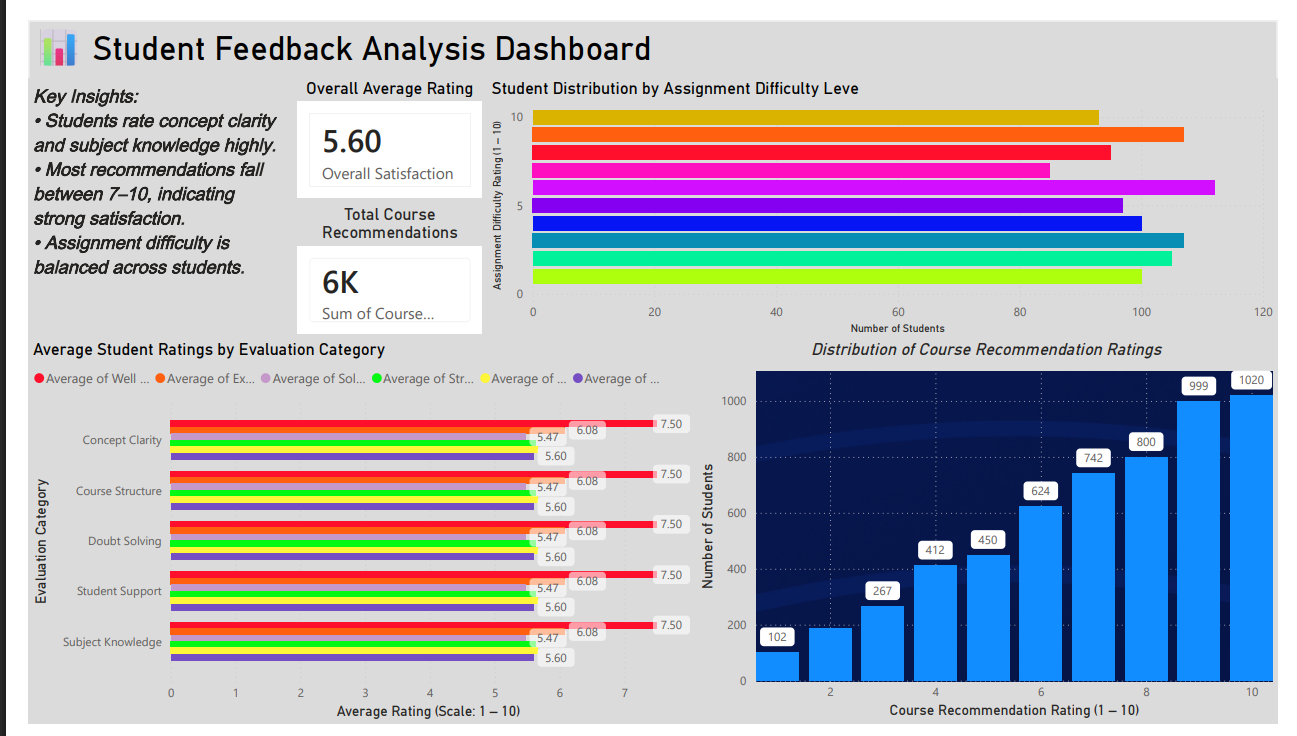

What the dashboard file says about the page in this screenshot:
{"tool":"powerbi","page":{"name":"Page 1","canvas":[1280,720],"ordinal":0},"visuals":[{"type":"clusteredBarChart","title":"Average Student Ratings by Evaluation Category","fields":{"Y":["Avg(student_feedback.Well versed with the subject)","Avg(student_feedback.Explains concepts in an understandable way)","Avg(student_feedback.Solves doubts willingly)","Avg(student_feedback.Structuring of the course)","Avg(student_feedback.Provides support for students going above and beyond)","Avg(student_feedback.Course recommendation based on relevance)"],"Category":["Rating_Categories.Category"]},"box":[0,327,683,393],"z":0},{"type":"cardVisual","title":"Total Course Recommendations","fields":{"Data":["Sum(student_feedback.Course recommendation based on relevance)"]},"box":[271.2,187.8,199,139.3],"z":1000},{"type":"clusteredColumnChart","title":"Distribution of Course Recommendation Ratings","fields":{"Y":["Sum(student_feedback.Course recommendation based on relevance)"],"Category":["student_feedback.Course recommendation based on relevance"]},"box":[682.9,327.2,597.1,393.1],"z":2000},{"type":"textbox","title":"📊 Student Feedback Analysis Dashboard","box":[0,0,1280,99],"z":4500},{"type":"cardVisual","title":"Overall Average Rating","fields":{"Data":["student_feedback.Overall Satisfaction"]},"box":[271.2,58.5,199,134.3],"z":4625},{"type":"clusteredBarChart","title":"Student Distribution by Assignment Difficulty Leve","fields":{"Category":["student_feedback.Degree of difficulty of assignments","student_feedback.Provides support for students going above and beyond","student_feedback.Use of presentations","student_feedback.Explains concepts in an understandable way","student_feedback.Well versed with the subject","student_feedback.Solves doubts willingly","student_feedback.Structuring of the course"],"Y":["CountNonNull(student_feedback.Student ID)"]},"box":[470,59,810,268],"z":4750},{"type":"textbox","box":[0,59,271,268],"z":5500}]}

Visuals, with their boxes in screenshot pixels (x1, y1, x2, y2), scaled from the page's 1280x720 canvas onto the 1297x736 screenshot:
"Average Student Ratings by Evaluation Category" clusteredBarChart: [0,334,692,735]
"Total Course Recommendations" cardVisual: [275,192,476,334]
"Distribution of Course Recommendation Ratings" clusteredColumnChart: [692,334,1296,735]
"📊 Student Feedback Analysis Dashboard" textbox: [0,0,1296,101]
"Overall Average Rating" cardVisual: [275,60,476,197]
"Student Distribution by Assignment Difficulty Leve" clusteredBarChart: [476,60,1296,334]
textbox: [0,60,275,334]
